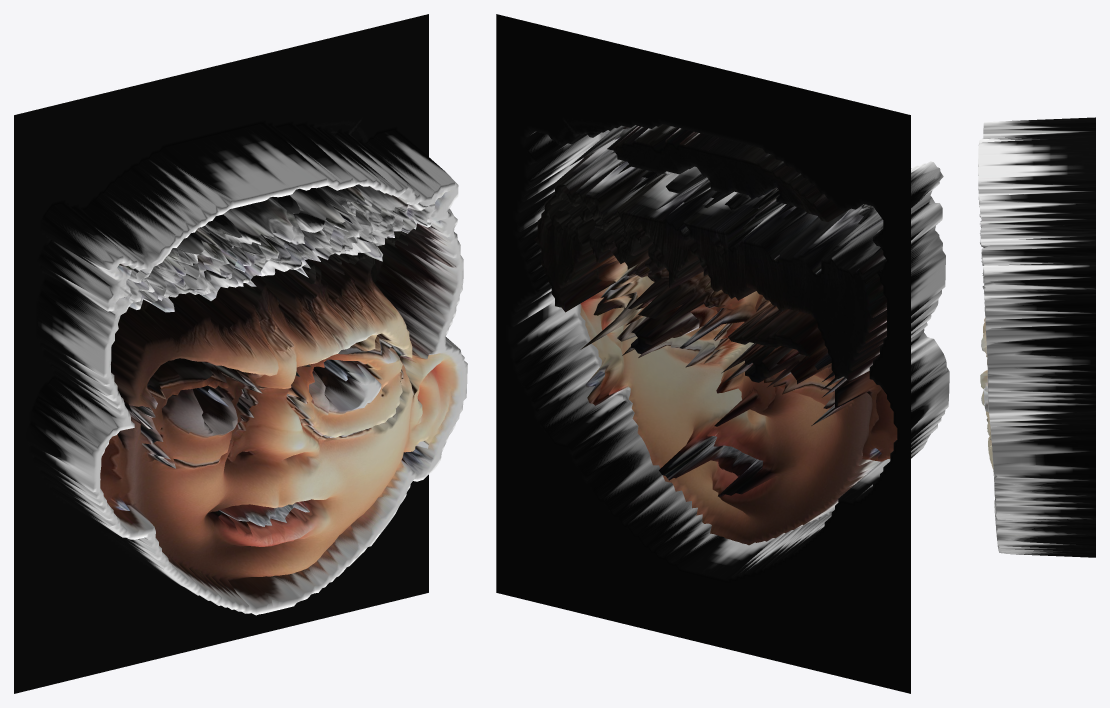
Rendered from my-avatar.glb.
3 renders of one model, left to right at view 1: azimuth 30°, elevation 25°; view 2: azimuth 150°, elevation 25°; view 3: azimuth 270°, elevation 25°, orthographic. The views are drawn at different scales.
Visible parts, largest first — view 1: avatarNode; view 2: avatarNode; view 3: avatarNode.
Part boxes in pixels (bbox=[...]): avatarNode: bbox=[14, 14, 467, 693]; avatarNode: bbox=[496, 14, 949, 693]; avatarNode: bbox=[978, 117, 1095, 557].
Bounding box in the file's own units: 2.4 × 3.2 × 0.6781.
Materials: 1 (1 with a texture image).
